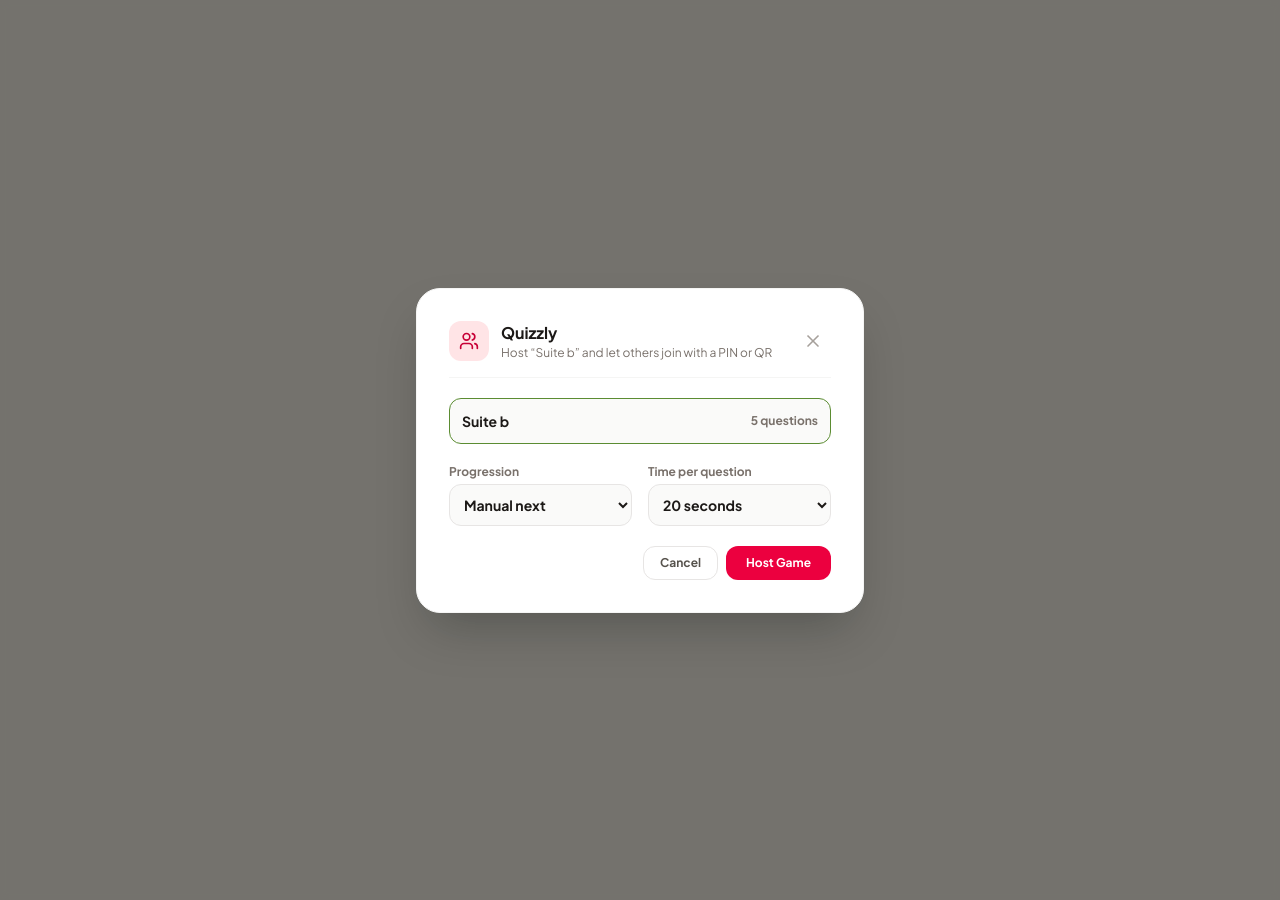
Test case: HostGameModal › shows the server error and stays open when creation fails
The image size is (1280, 900).
Click the button with test id "btn-host-game-submit".
click(778, 562)  # box x1=726 y1=546 x2=831 y2=580
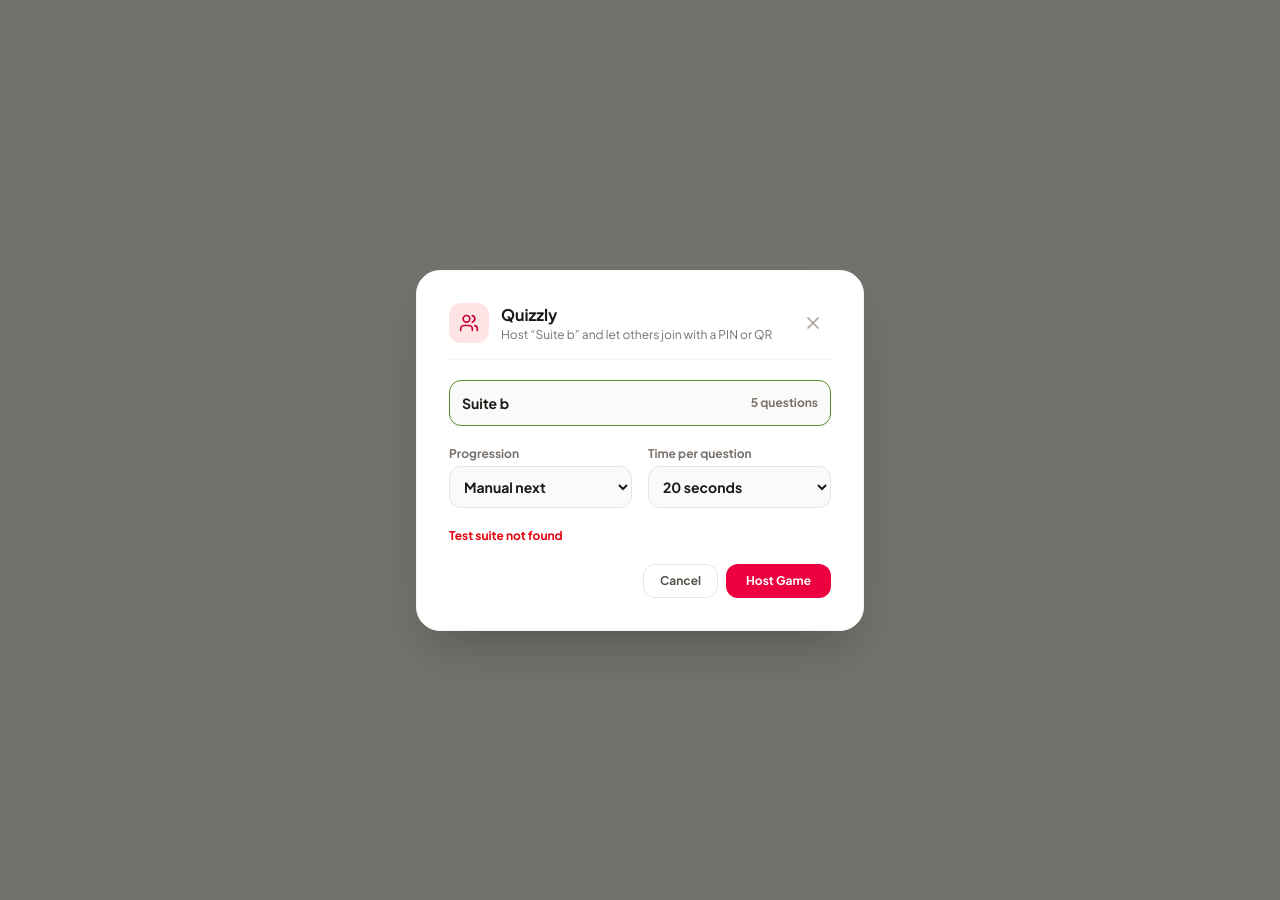
Check: the button with test id "btn-host-game-submit" is enabled, box x1=726 y1=564 x2=831 y2=598
Check: the message with test id "host-game-error" reads "Test suite not found", box x1=449 y1=528 x2=563 y2=542
